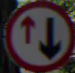Two way: (6, 6, 67, 62)
